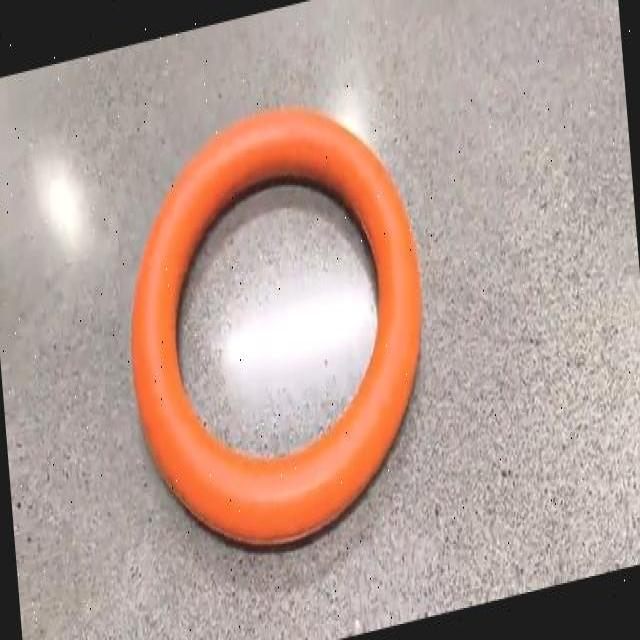note: (131, 107, 419, 543)
